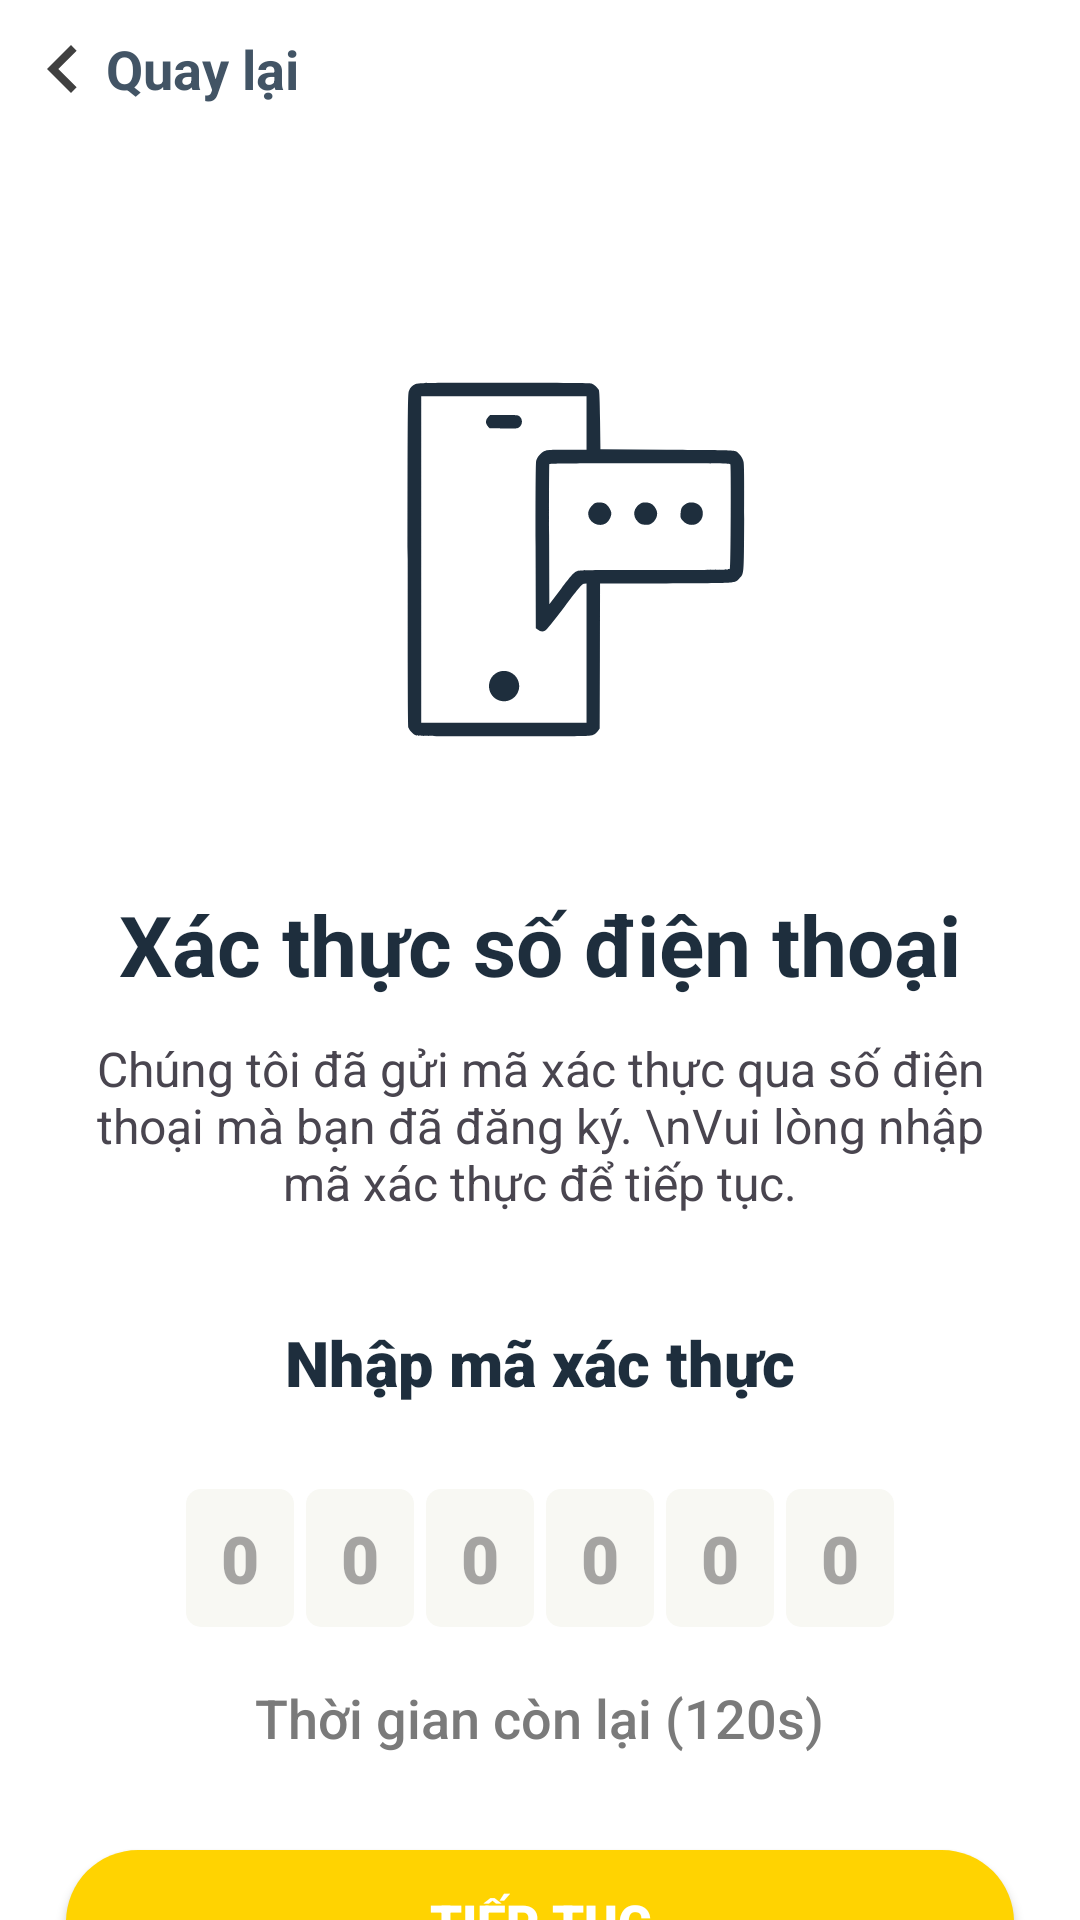

Screen size 1080w x 1920h. Icon name, then its box in pixels as (x1, y1, x2, y2):
phone otp type: (407, 382, 745, 737)
